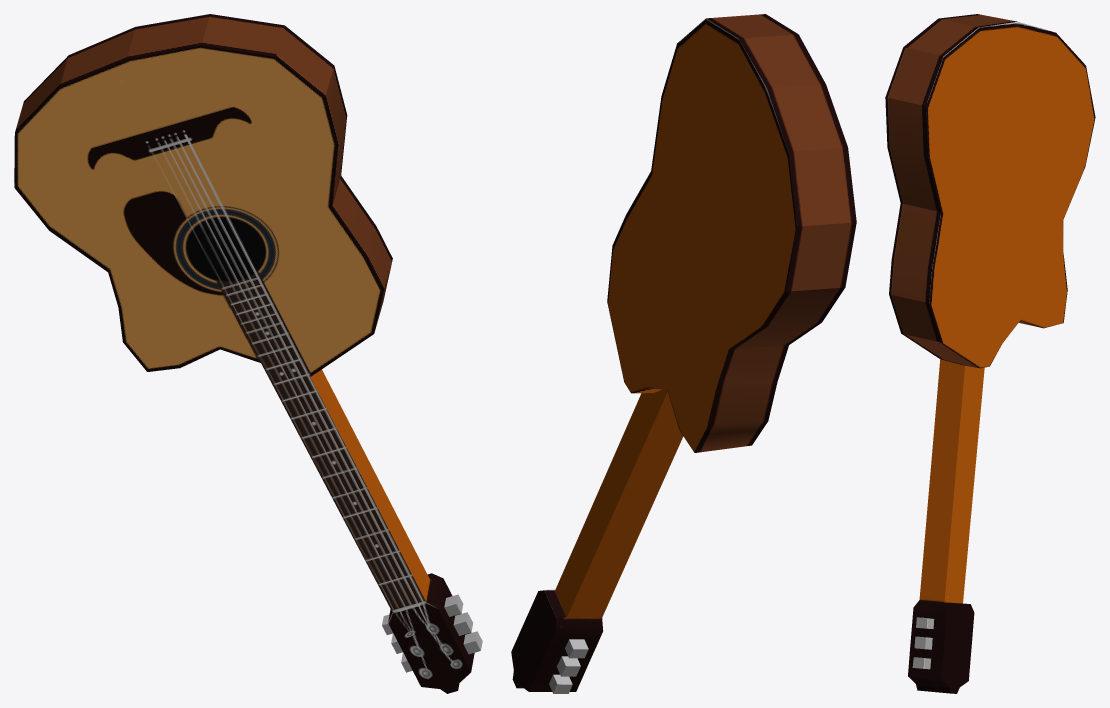
The model's file is guitarra3_000206.obj.
3 renders of one model, left to right at view 1: azimuth 30°, elevation 25°; view 2: azimuth 150°, elevation 25°; view 3: azimuth 270°, elevation 25°, orthographic. The views are drawn at different scales.
Visible parts, largest first — view 1: Guitarra_2:pPlane4; view 2: Guitarra_2:pPlane4; view 3: Guitarra_2:pPlane4.
Part boxes in pixels (x1=…): Guitarra_2:pPlane4: x1=14, y1=14, x2=482, y2=693; Guitarra_2:pPlane4: x1=511, y1=14, x2=856, y2=693; Guitarra_2:pPlane4: x1=885, y1=14, x2=1095, y2=693.
Bounding box in the file's own units: 7.02 × 11.87 × 3.89.
